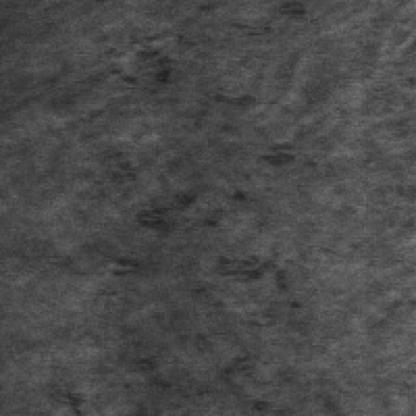rolled-in_scale: (93, 102, 300, 285)
